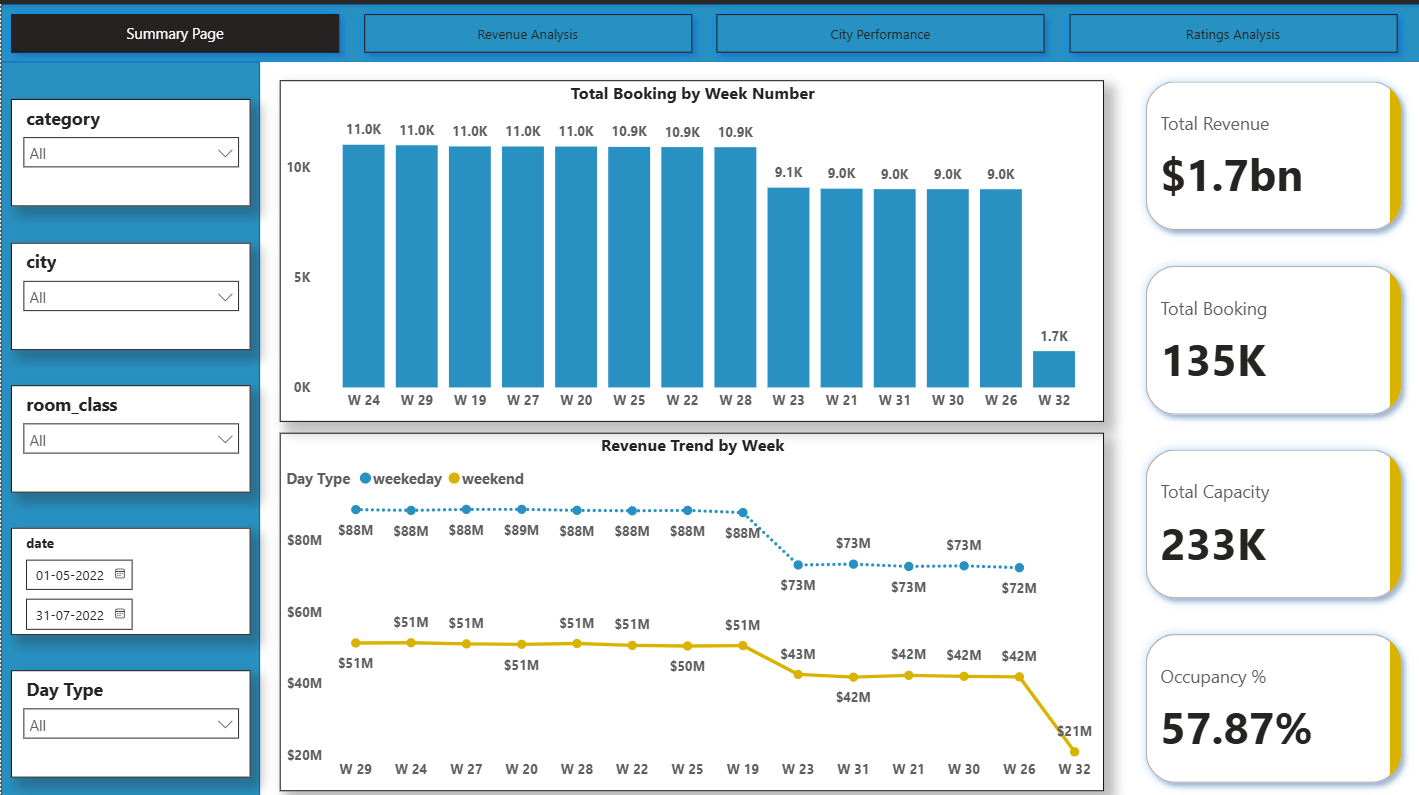

The dashboard page shown, as its layout file describes it:
{"tool":"powerbi","page":{"name":"Summary Page","canvas":[1280,720],"ordinal":0},"visuals":[{"type":"shape","box":[0,0,1280.2,52.3],"z":0},{"type":"shape","box":[0,52.3,233.7,667.4],"z":1000},{"type":"cardVisual","fields":{"Data":["Measure Table.Revenue","Measure Table.Total Booking","Measure Table.Total Capacity","Measure Table.Occupancy %"]},"box":[1015.1,53.5,265,666.8],"z":2000},{"type":"slicer","fields":{"Values":["dim_hotels.category"]},"box":[9.3,86,216.3,96.5],"z":3000},{"type":"slicer","fields":{"Values":["dim_hotels.city"]},"box":[9.3,214.8,216.3,96.5],"z":4000},{"type":"slicer","fields":{"Values":["dim_rooms.room_class"]},"box":[9.3,343.6,216.3,96.5],"z":5000},{"type":"slicer","fields":{"Values":["dim_date.date"]},"box":[9.3,472.4,216.3,96.5],"z":6000},{"type":"slicer","fields":{"Values":["dim_date.day_type"]},"box":[9.3,601.2,216.3,96.5],"z":7000},{"type":"lineChart","title":"Revenue Trend by Week","fields":{"Category":["dim_date.week no"],"Series":["dim_date.day_type"],"Y":["Measure Table.Revenue"]},"box":[251.5,386.7,743.1,323],"z":8000},{"type":"clusteredColumnChart","fields":{"Y":["Measure Table.Total Booking"],"Category":["dim_date.week no"]},"box":[251.5,68.2,743.1,308.4],"z":9000},{"type":"pageNavigator","box":[0,0,1270.1,53.5],"z":10000}]}

Visuals, with their boxes in screenshot pixels (x1, y1, x2, y2), scaled from the page's 1280x720 canvas onto the 1419x795 screenshot:
shape: bbox=[0, 0, 1418, 58]
shape: bbox=[0, 58, 259, 794]
cardVisual - Measure Table.Revenue x Measure Table.Total Booking: bbox=[1125, 59, 1418, 794]
slicer - dim_hotels.category: bbox=[10, 95, 250, 202]
slicer - dim_hotels.city: bbox=[10, 237, 250, 344]
slicer - dim_rooms.room_class: bbox=[10, 379, 250, 486]
slicer - dim_date.date: bbox=[10, 522, 250, 628]
slicer - dim_date.day_type: bbox=[10, 664, 250, 770]
"Revenue Trend by Week" lineChart: bbox=[279, 427, 1103, 784]
clusteredColumnChart - Measure Table.Total Booking x dim_date.week no: bbox=[279, 75, 1103, 416]
pageNavigator: bbox=[0, 0, 1408, 59]
